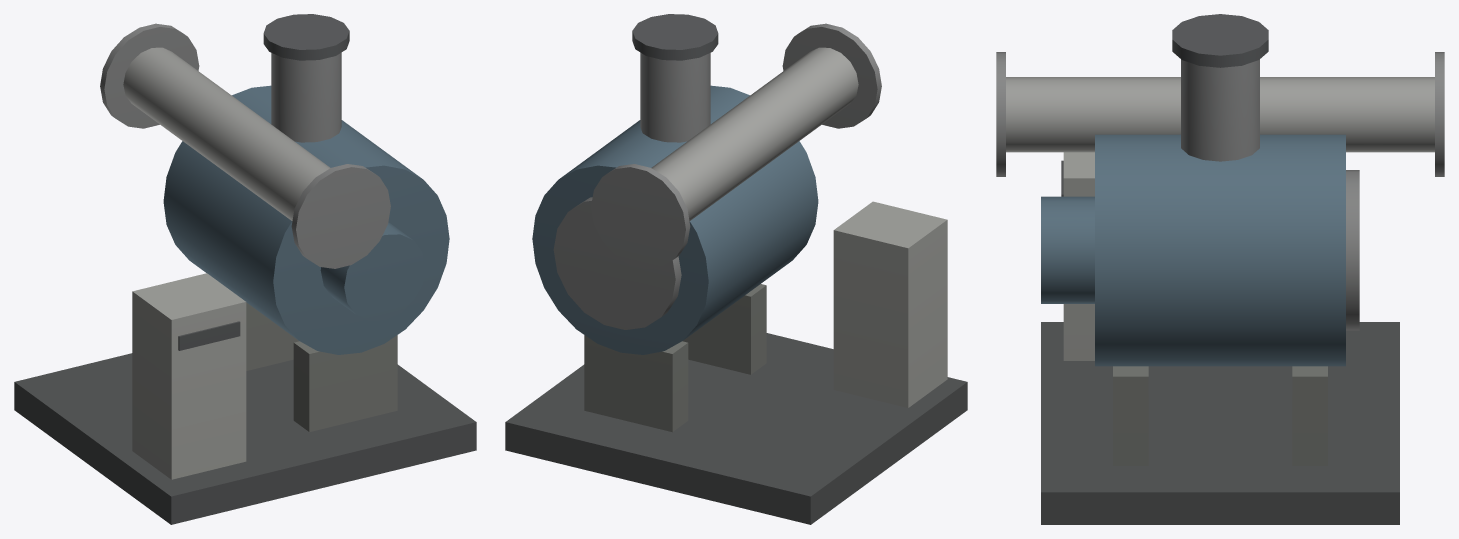
File: tbBlower_steel.glb
The picture shows the model from 3 angles, left to right: view 1: azimuth 30°, elevation 25°; view 2: azimuth 150°, elevation 25°; view 3: azimuth 270°, elevation 25°; orthographic projection. The views are drawn at different scales.
Visible parts, largest first — view 1: tbBlower_steel; view 2: tbBlower_steel; view 3: tbBlower_steel.
Boxes of the visible parts, box(x1,y1,x2,y2) form: tbBlower_steel: box(14, 14, 476, 524); tbBlower_steel: box(505, 14, 967, 524); tbBlower_steel: box(996, 14, 1444, 524).
Size of the model in its own units: 0.9 by 1.08 by 1.
